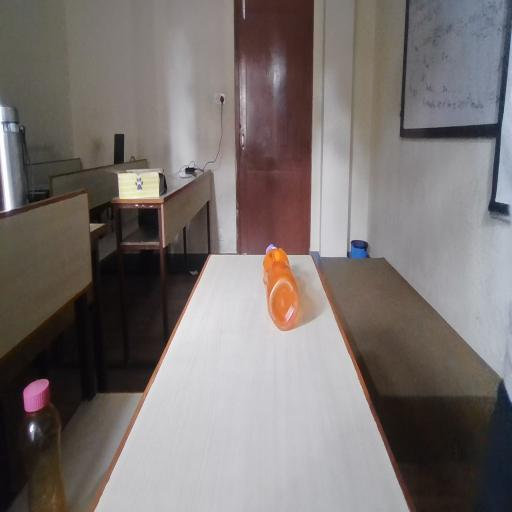Bottle: (7, 377, 82, 502), (252, 232, 306, 344)
